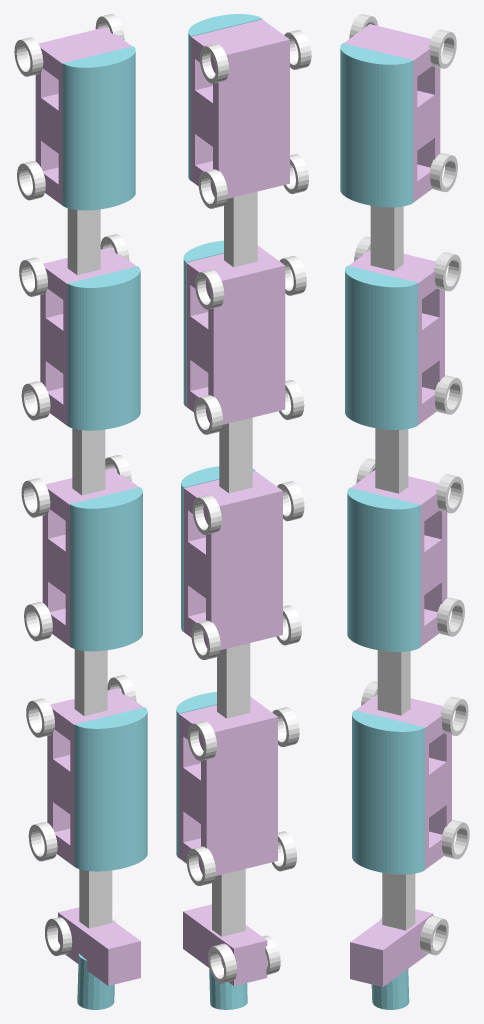
File: tinker.obj
3 renders of one model, left to right at view 1: azimuth 30°, elevation 25°; view 2: azimuth 210°, elevation 25°; view 3: azimuth 330°, elevation 25°, orthographic.
Parts seen in each view (by area): view 1: group_0_10744831, group_0_16307455, group_0_16777215, group_0_16448250; view 2: group_0_16307455, group_0_16777215, group_0_16448250, group_0_10744831; view 3: group_0_10744831, group_0_16307455, group_0_16777215, group_0_16448250.
Boxes of the visible parts, x1,y1,x2,y2 form: group_0_10744831: [62, 46, 147, 1009]; group_0_16307455: [35, 27, 143, 985]; group_0_16777215: [14, 14, 136, 955]; group_0_16448250: [67, 208, 112, 928]; group_0_16307455: [179, 19, 289, 985]; group_0_16777215: [186, 30, 311, 983]; group_0_16448250: [212, 191, 257, 936]; group_0_10744831: [176, 14, 262, 1009]; group_0_10744831: [340, 43, 424, 1009]; group_0_16307455: [344, 24, 451, 986]; group_0_16777215: [349, 14, 469, 955]; group_0_16448250: [370, 205, 415, 930].
Bounding box in the file's own units: 44 × 392 × 41.
